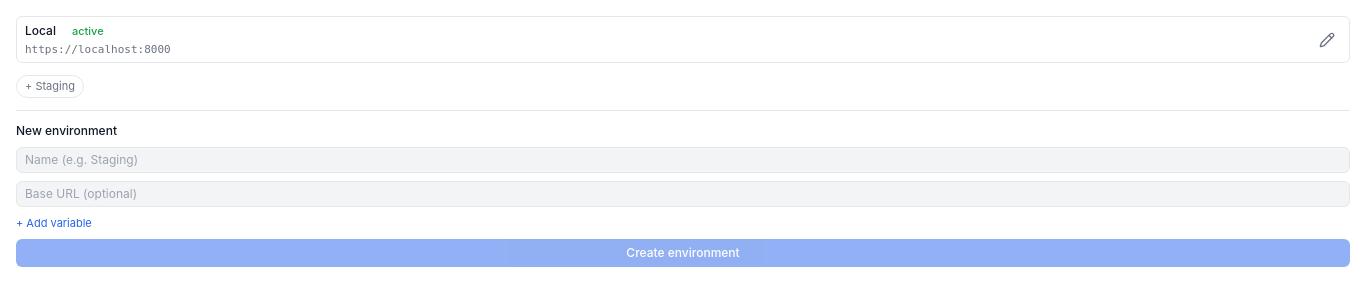
Test: EnvironmentsPanel › shows a validation error when create fails
Expected: the text "Local" is shown, [25,23,56,39]
Type "QA" into the field named "Environment name".
click(683, 160); type("QA")  # box [16,146,1350,172]
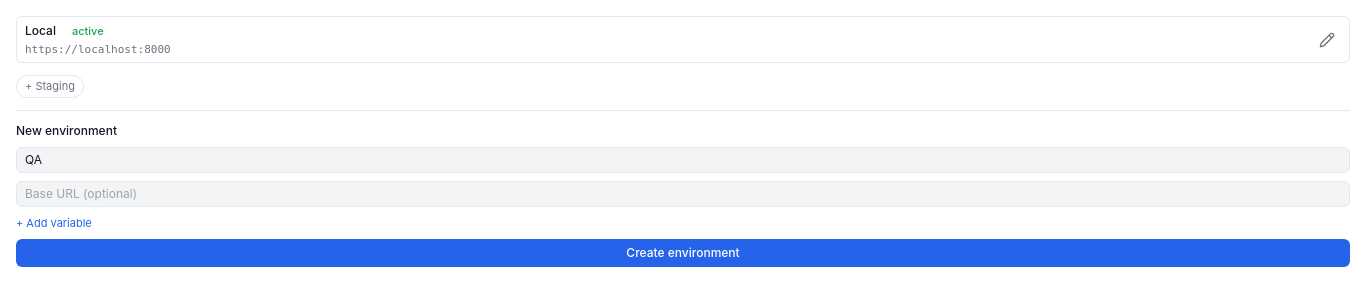
Click the button "Create environment".
click(683, 253)  # box [16,239,1350,267]
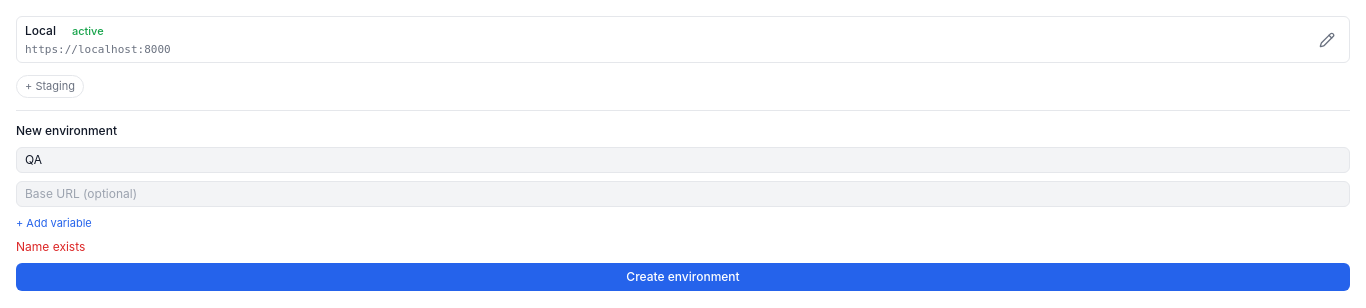
Now the text "Name exists" is shown, box [16,239,85,254]
